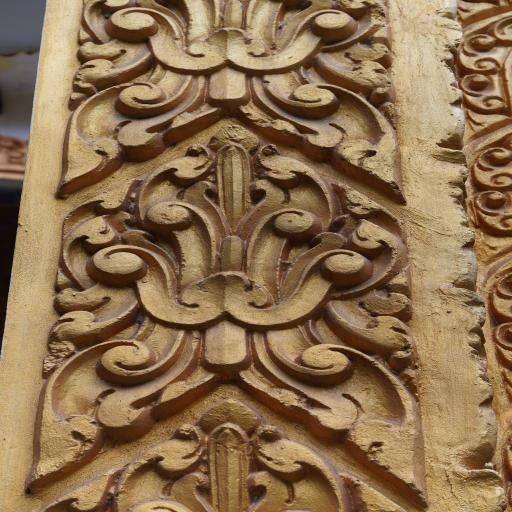la: (28, 126, 444, 502), (66, 0, 407, 205), (20, 394, 440, 512)
